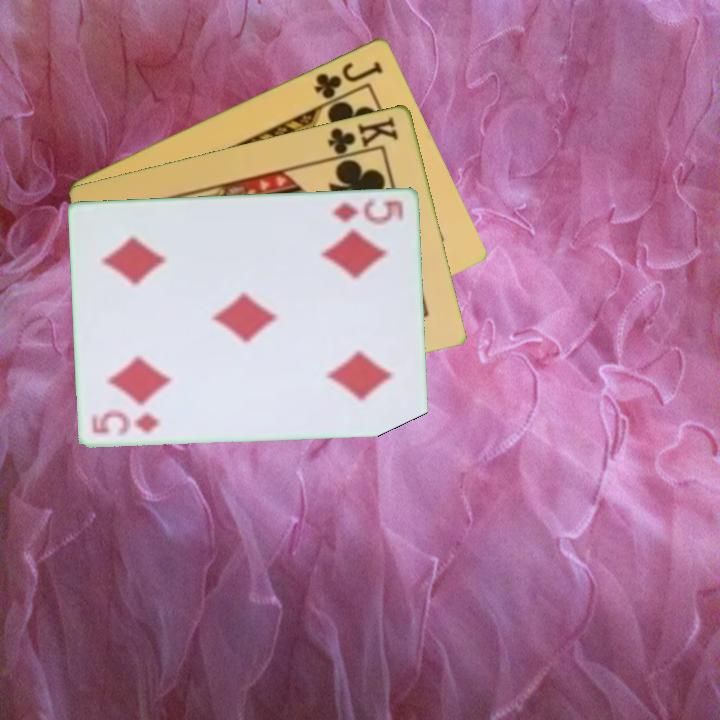5d: (328, 195, 407, 226), (88, 408, 163, 438)
Jc: (311, 56, 386, 102)
Kc: (324, 113, 402, 161)
